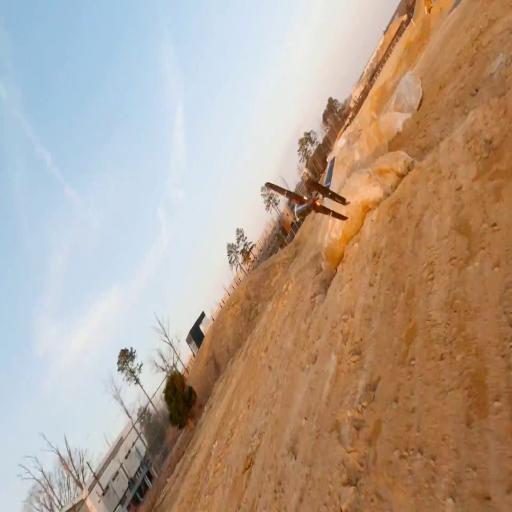uav: (260, 152, 352, 229)
